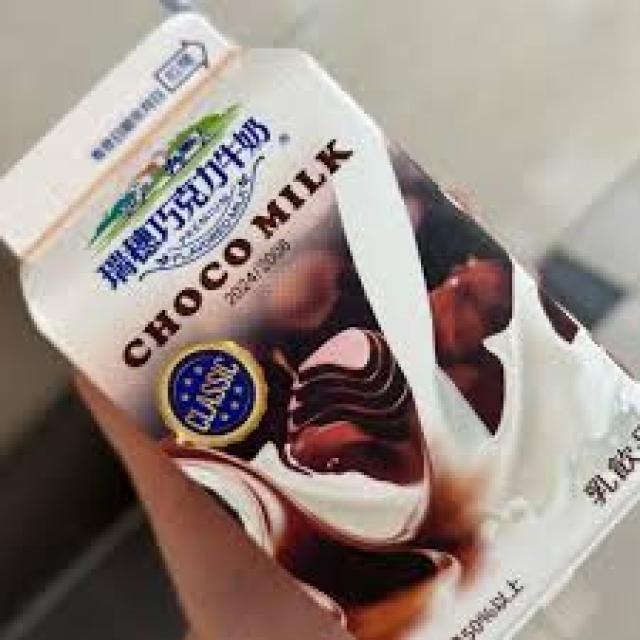RuiSui_ChocoMilk: (0, 9, 640, 636)
